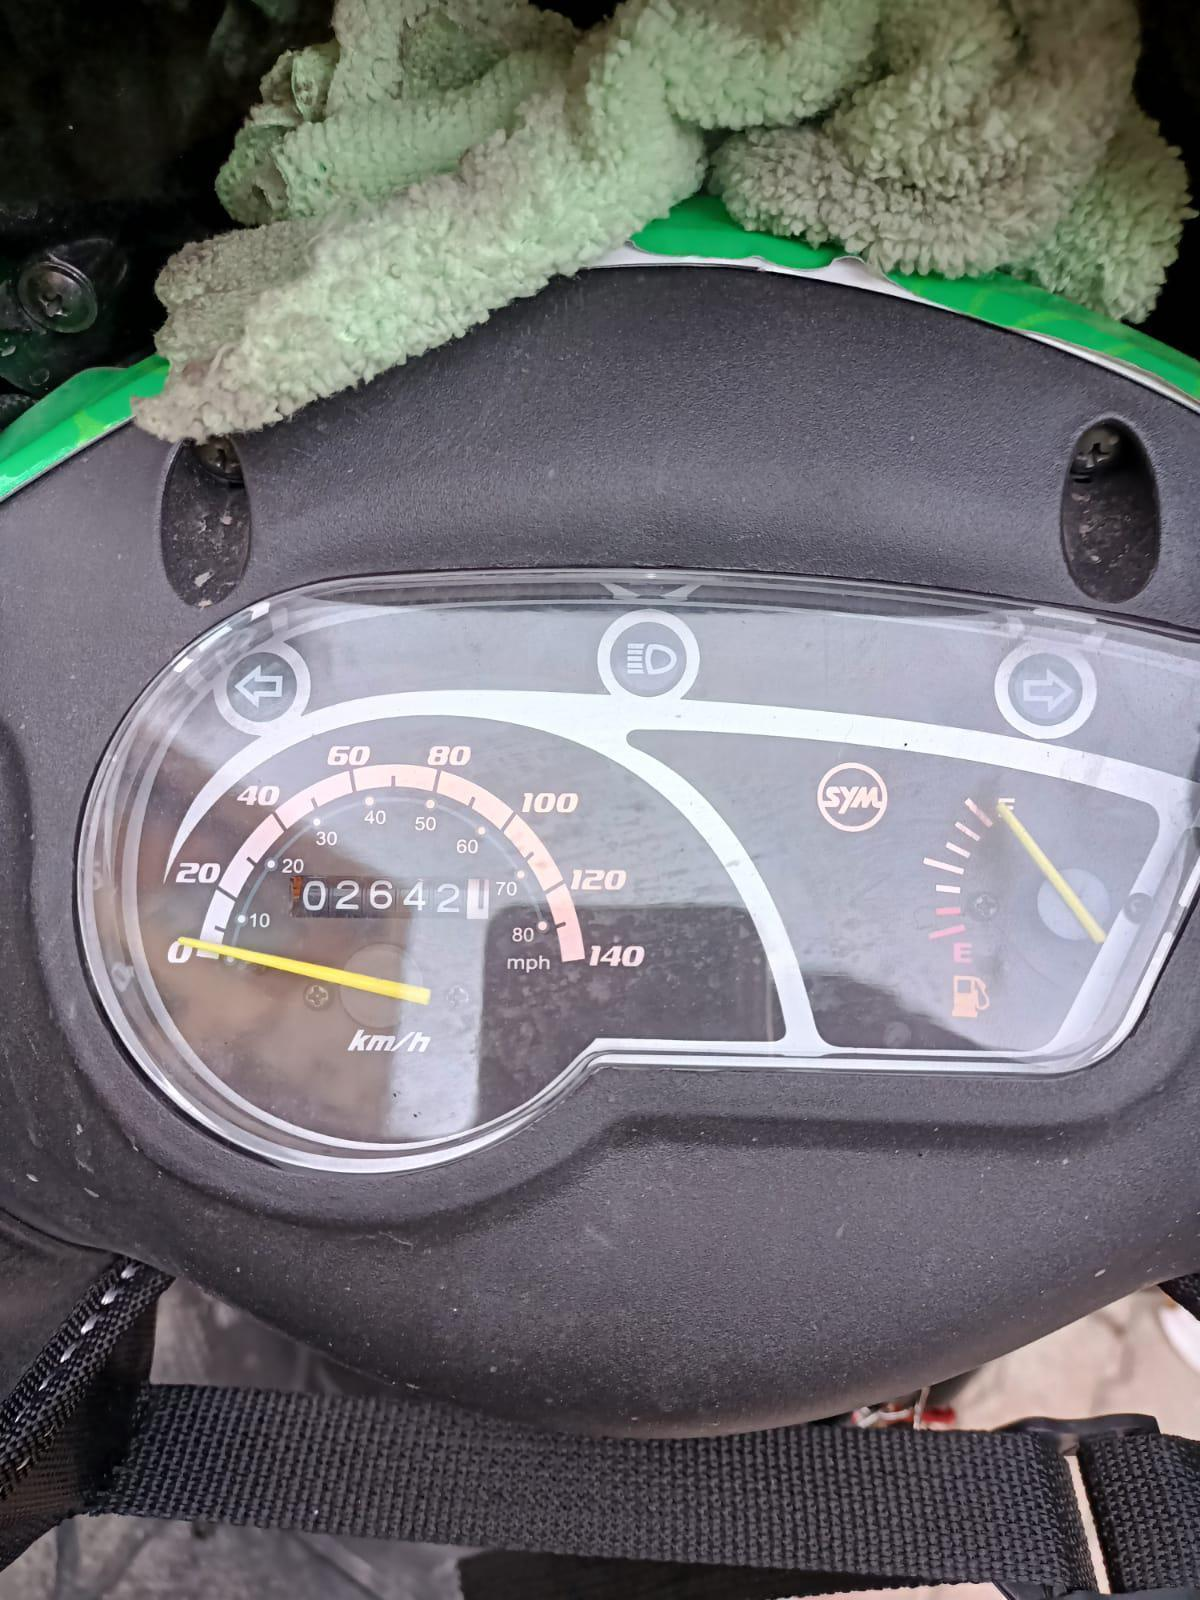0: (301, 877, 326, 913)
1: (470, 877, 490, 917)
2: (435, 879, 463, 918), (332, 877, 362, 912)
4: (402, 879, 427, 913)
6: (367, 877, 395, 910)
odometer: (287, 873, 494, 929)
